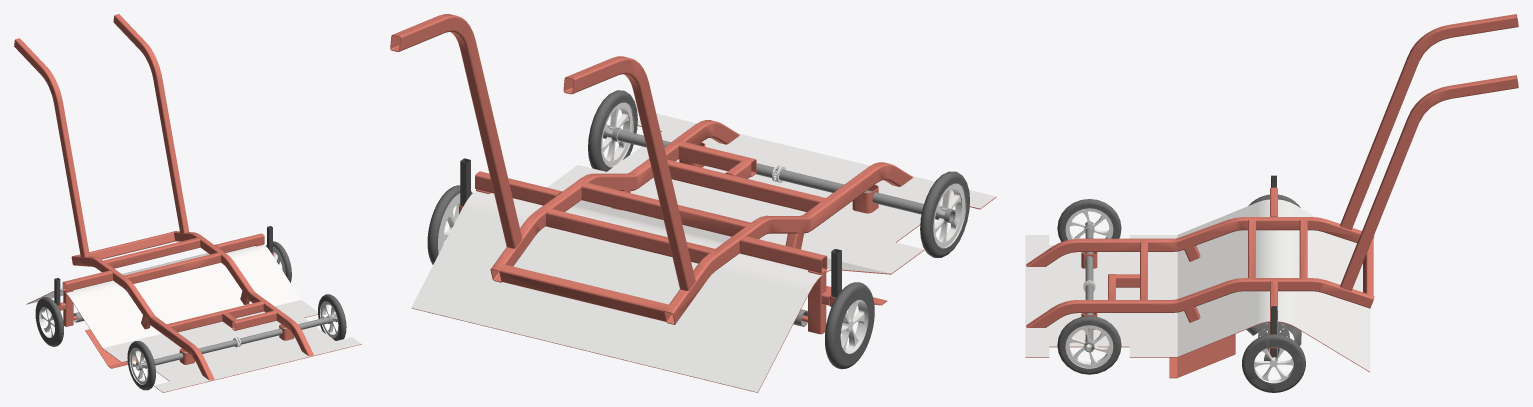
Rendered from Racking-Machine.glb.
3 views of the same model, side by side, from view 1: azimuth 30°, elevation 25°; view 2: azimuth 150°, elevation 25°; view 3: azimuth 270°, elevation 25° (orthographic). The views are drawn at different scales.
Visible parts, largest first — view 1: racking machine chasis; view 2: racking machine chasis; view 3: racking machine chasis.
Part boxes in pixels (left/top/right/bottom): racking machine chasis: left=14, top=14, right=361, bottom=392; racking machine chasis: left=390, top=14, right=996, bottom=392; racking machine chasis: left=1025, top=14, right=1518, bottom=392.
Size of the model in its own units: 107 by 97.79 by 156.
Materials: 1 (1 with a texture image).
